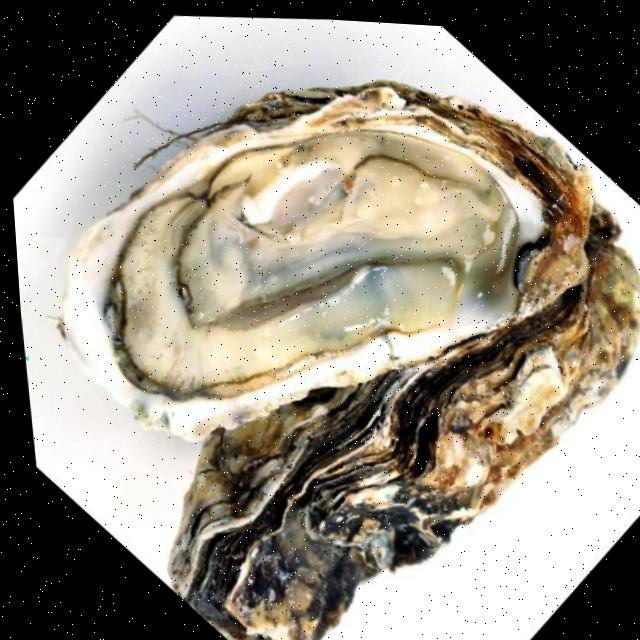Oyster-Closed: (172, 205, 640, 640)
Oyster-Open: (62, 83, 545, 439)
